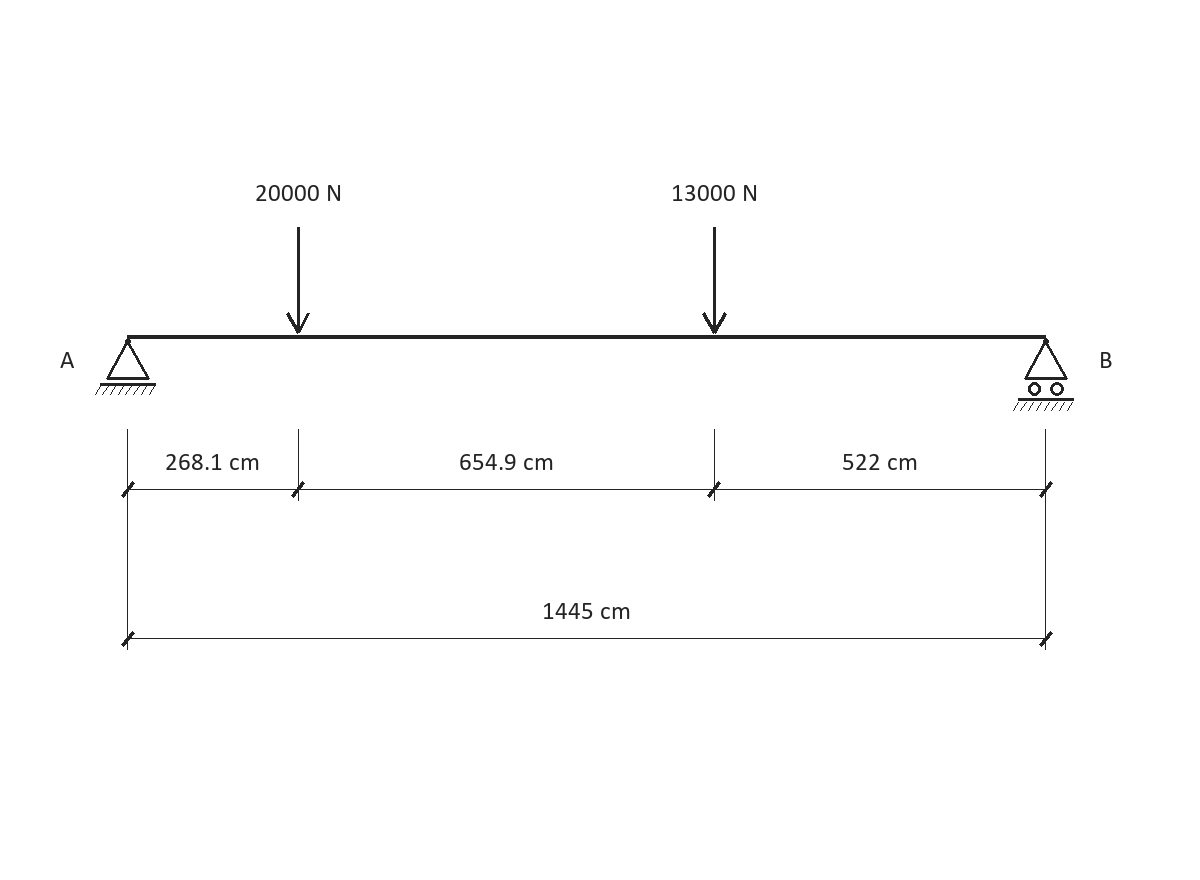pin_support: (95, 338, 156, 395)
point_load: (702, 227, 727, 334), (286, 227, 310, 334)
roller_support: (1013, 338, 1074, 411)
